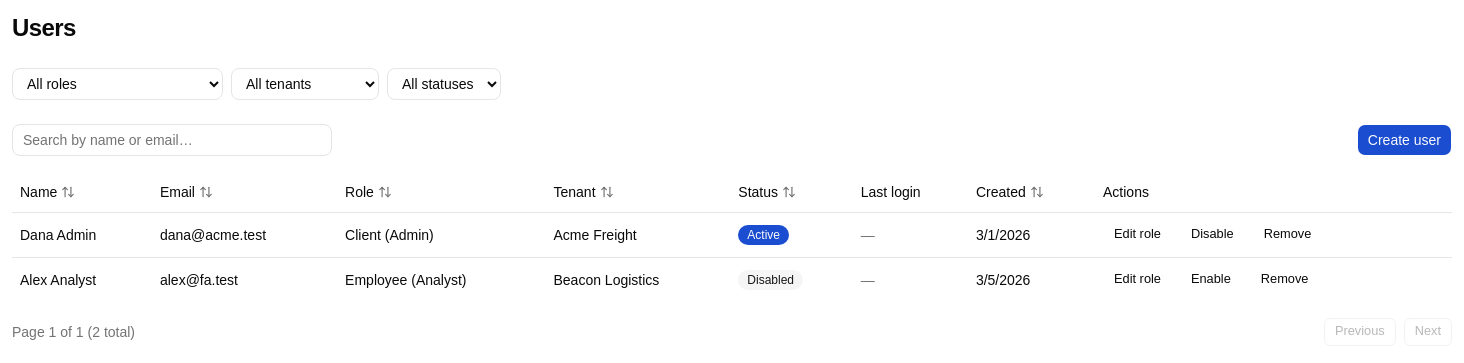
Test case: UsersPage › AC: filters narrow results by status
Expected: the text "dana@acme.test" is shown, [152, 212, 337, 257]
Select "Disabled" in the dropdown named "Filter by status": (444, 84) [387, 68, 501, 100]
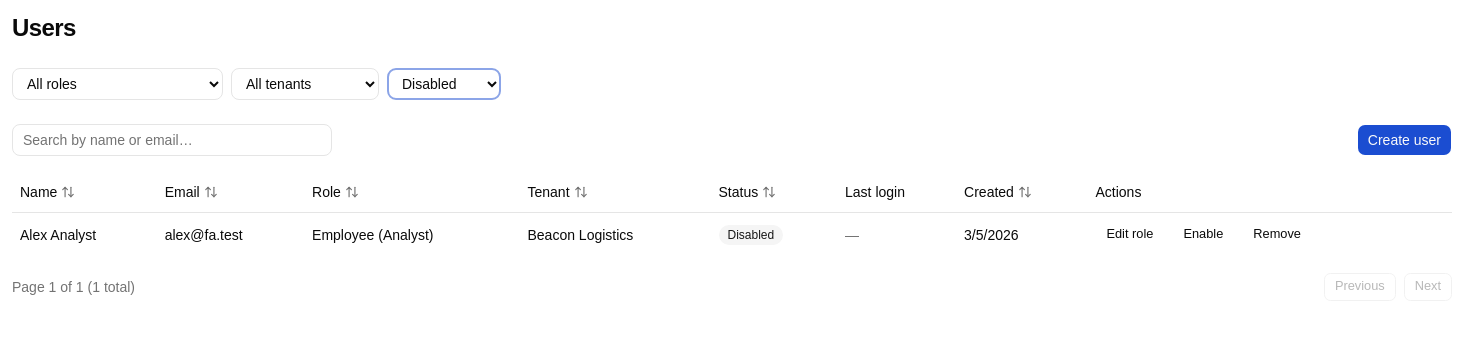
Expected: the text "alex@fa.test" is shown, [157, 212, 304, 256]
Expected: the text "dana@acme.test" is gone
